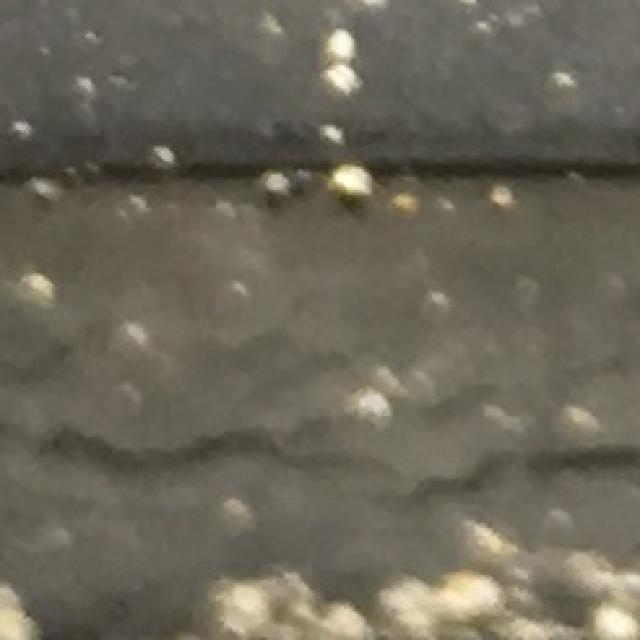Cracks: (0, 279, 640, 529)
